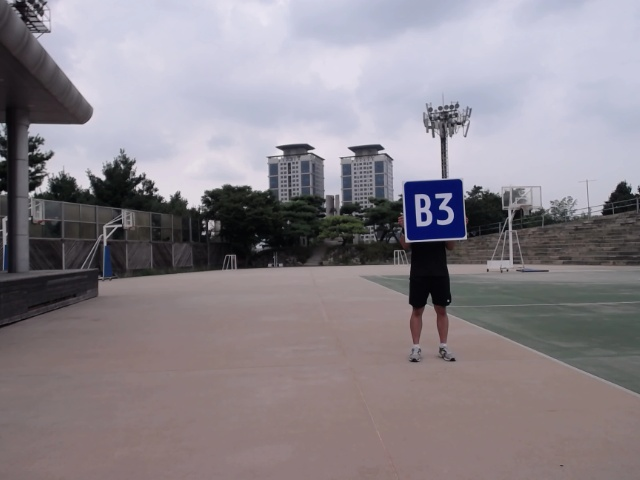delivery_b3: (401, 177, 469, 243)
